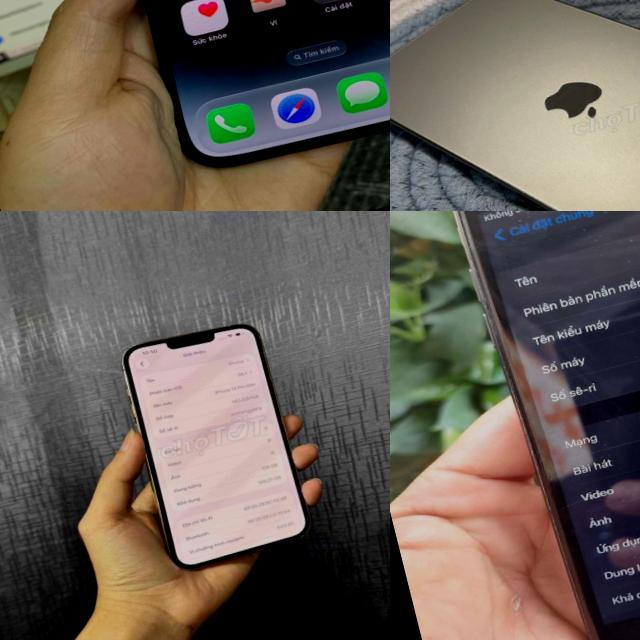gen_12_13: (102, 305, 316, 576)
gen_14: (60, 0, 390, 204)
gen_15: (390, 0, 640, 211)
gen_7_8: (423, 211, 640, 640)
